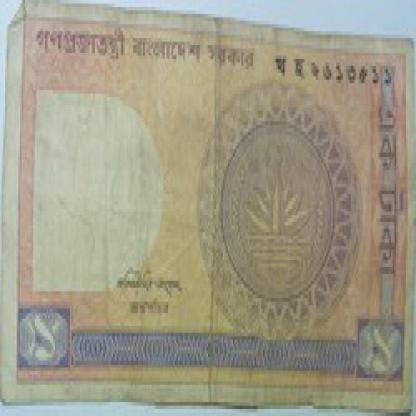One Taka: (374, 97, 410, 281), (18, 305, 70, 371), (359, 319, 403, 381)
